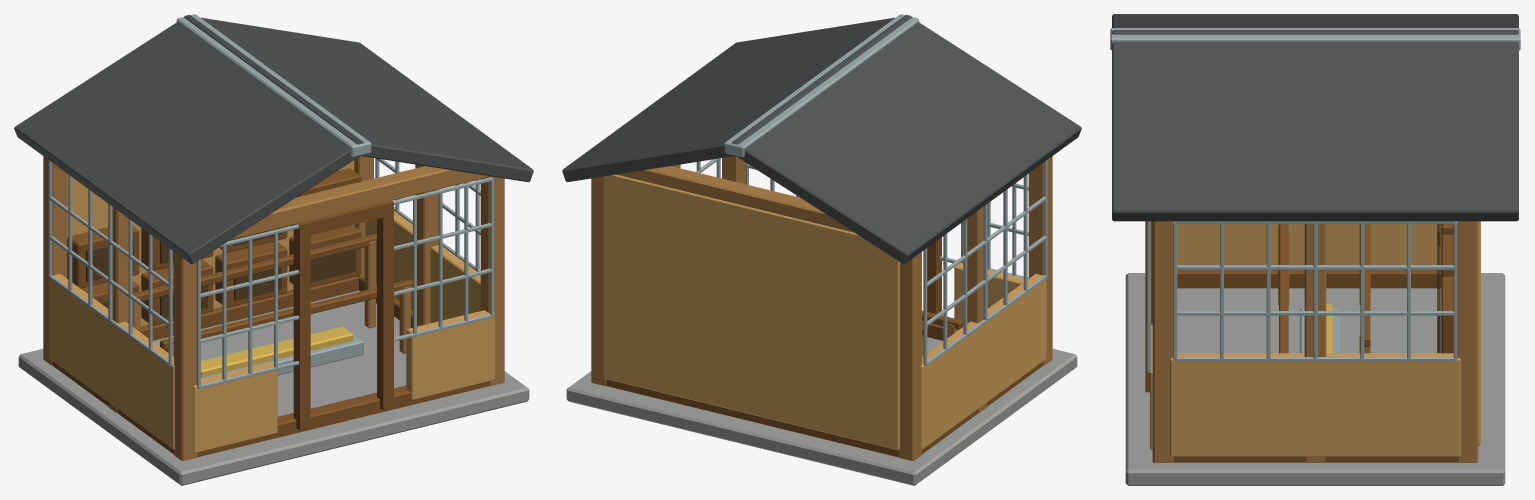
The model's file is ChickenChopCompleted.glb.
3 views of the same model, side by side, from view 1: azimuth 30°, elevation 25°; view 2: azimuth 150°, elevation 25°; view 3: azimuth 270°, elevation 25° (orthographic). The views are drawn at different scales.
Visible parts, largest first — view 1: ChickenCoopCompleted_StaticMesh; view 2: ChickenCoopCompleted_StaticMesh; view 3: ChickenCoopCompleted_StaticMesh.
Boxes of the visible parts, box(x1,y1,x2,y2) form: ChickenCoopCompleted_StaticMesh: box(14, 14, 533, 485); ChickenCoopCompleted_StaticMesh: box(562, 14, 1081, 485); ChickenCoopCompleted_StaticMesh: box(1110, 14, 1520, 485).
Bounding box in the file's own units: 5.2 × 4.35 × 4.54.
